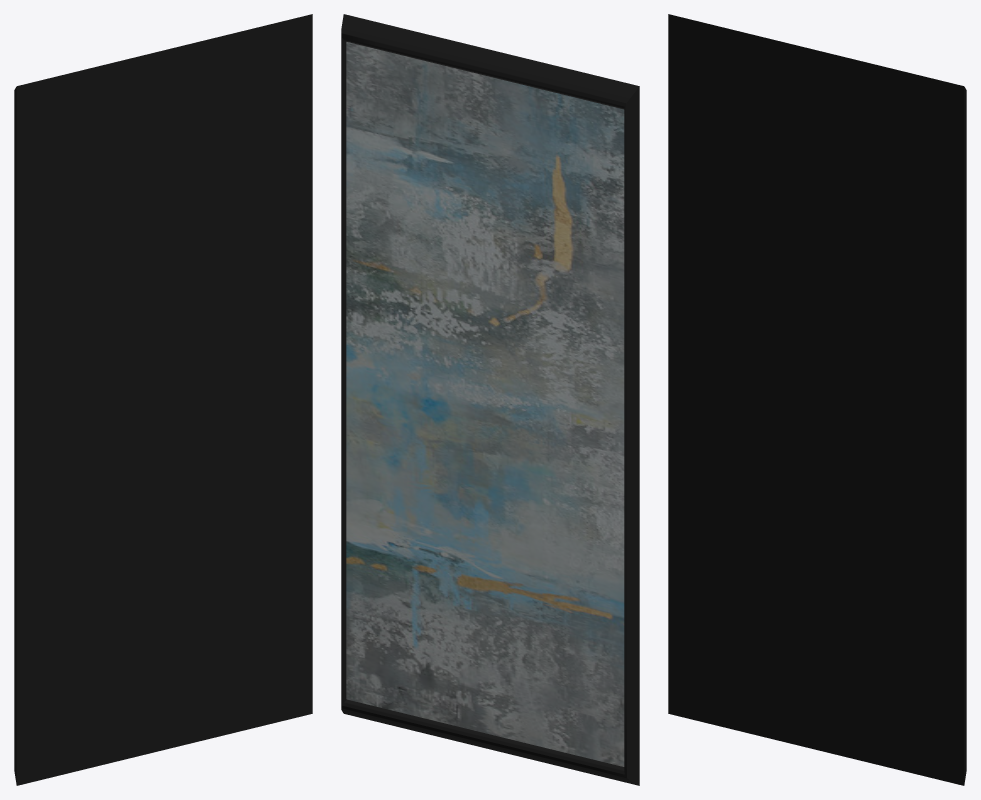
Rendered from Quadro.002.fbx.
3 renders of one model, left to right at view 1: azimuth 30°, elevation 25°; view 2: azimuth 150°, elevation 25°; view 3: azimuth 330°, elevation 25°, orthographic.
Parts seen in each view (by area): view 1: Quadro.002; view 2: Quadro.002; view 3: Quadro.002.
Boxes of the visible parts, x1,y1,x2,y2 form: Quadro.002: [14, 14, 312, 785]; Quadro.002: [341, 14, 639, 785]; Quadro.002: [668, 14, 966, 785].
Bounding box in the file's own units: 54.63 × 123 × 2.69.
